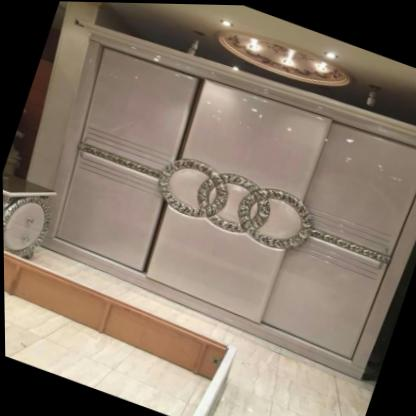Ceramic floor: (3, 250, 374, 416), (28, 249, 374, 416)
Closet: (39, 26, 416, 380)
